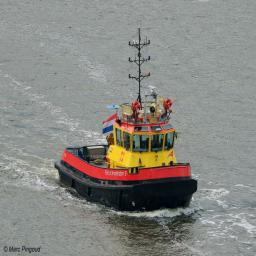tugboat: (53, 24, 201, 219)
